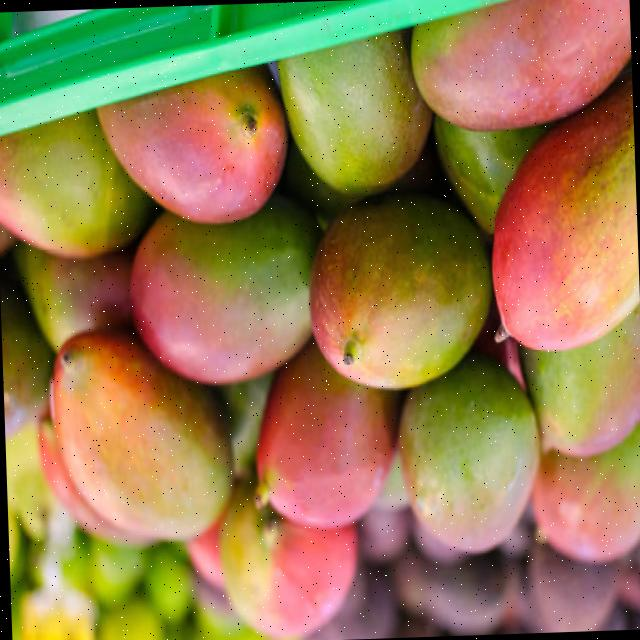mango: (490, 77, 639, 348), (49, 332, 231, 538), (129, 194, 318, 383), (308, 194, 490, 387), (96, 66, 286, 221), (410, 0, 631, 128), (398, 353, 539, 552), (255, 340, 399, 526), (278, 31, 430, 196), (0, 110, 155, 257), (219, 481, 357, 636), (519, 304, 640, 455), (530, 419, 640, 561), (14, 243, 130, 349)
